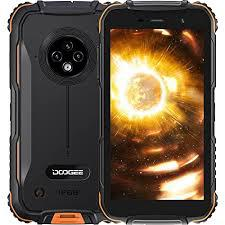Smartphone: (99, 0, 211, 218), (11, 0, 111, 220)
